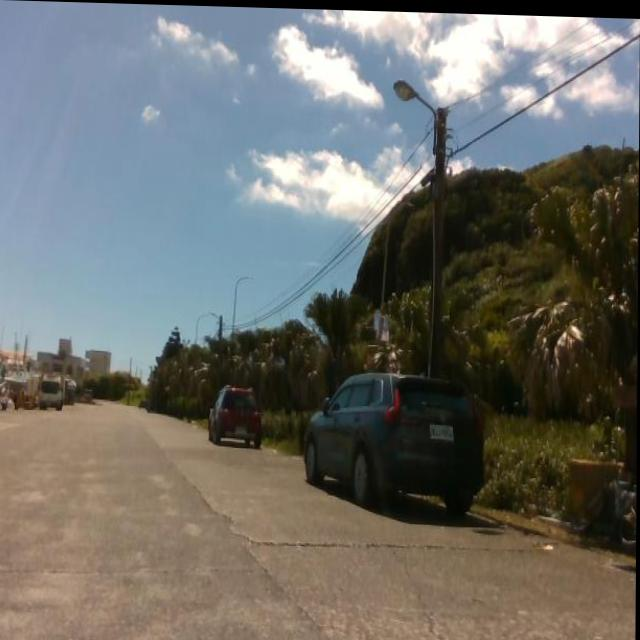pollute: (560, 451, 637, 552)
